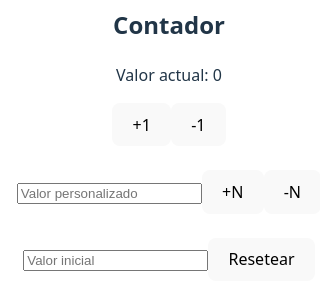
incrementa por valor personalizado
Step 1. Type "5" into the number field with placeholder "Valor personalizado" → {"x": 109, "y": 193}, box left=17, top=183, right=202, bottom=204
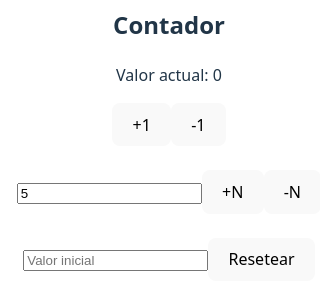
Step 2. Click the button "+N" → {"x": 233, "y": 192}, box left=202, top=170, right=264, bottom=214
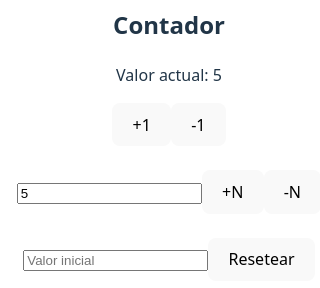
Expected: the text "Valor actual: 5" is shown, left=116, top=64, right=222, bottom=86
